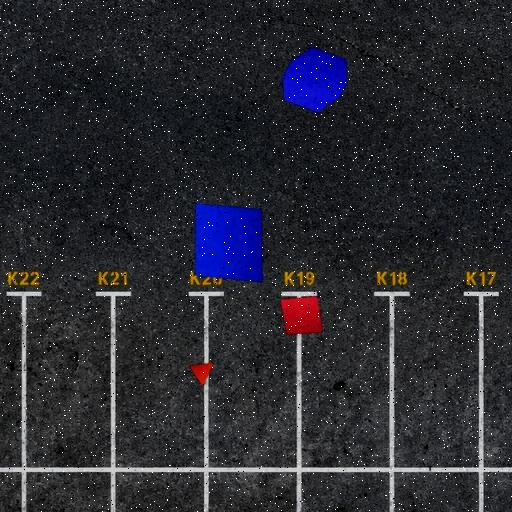BLUE_SQUARE: (194, 202, 264, 284)
RED_SQUARE: (280, 295, 324, 336)
